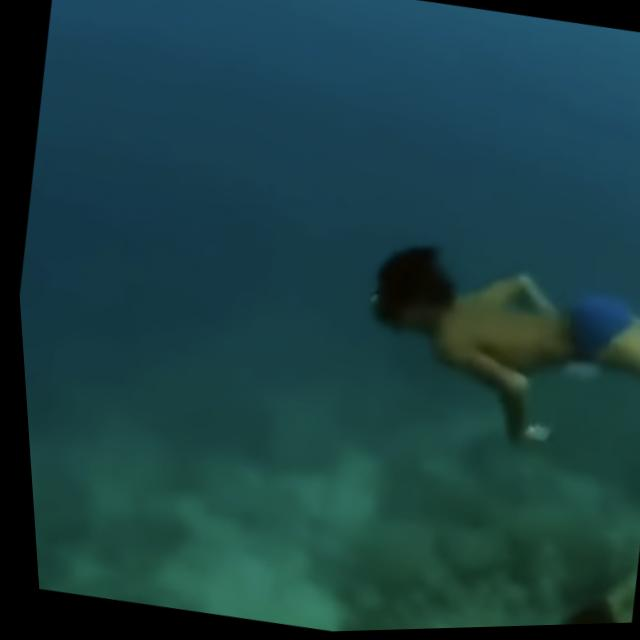human: (327, 209, 640, 489), (514, 474, 640, 629)
